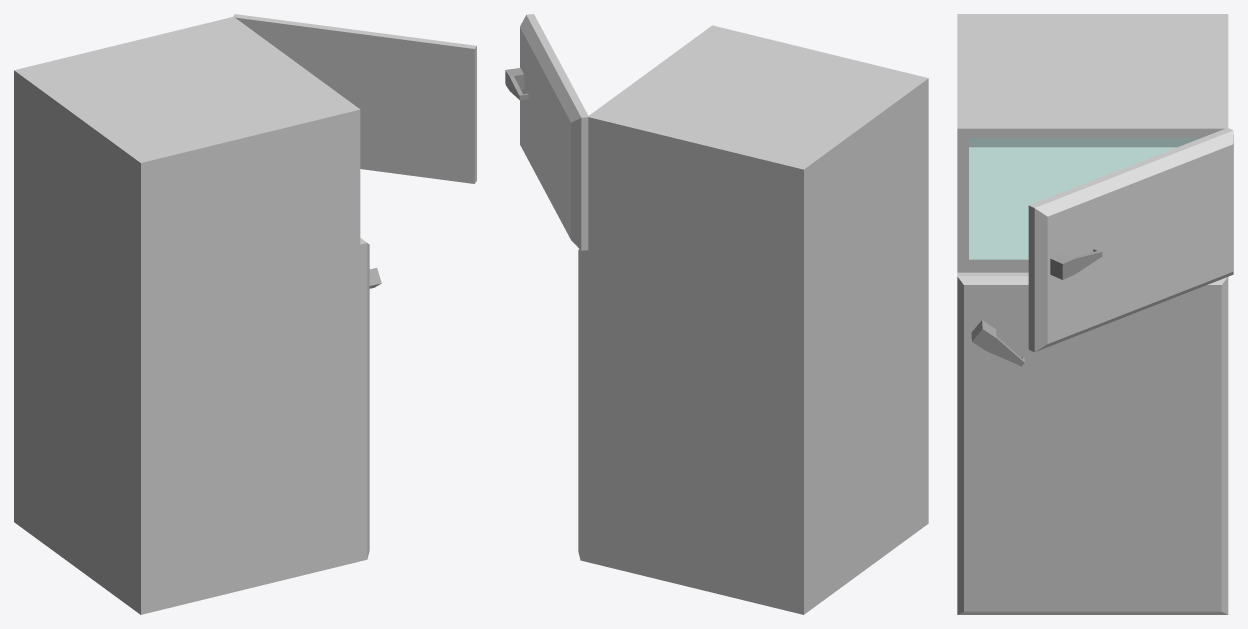
Rendered from refridgerator_broken.fbx.
3 views of the same model, side by side, from view 1: azimuth 30°, elevation 25°; view 2: azimuth 150°, elevation 25°; view 3: azimuth 270°, elevation 25° (orthographic). The views are drawn at different scales.
Parts seen in each view (by area): view 1: Cube; view 2: Cube; view 3: Cube.
Boxes of the visible parts, box(x1,y1,x2,y2) form: Cube: box(14, 14, 476, 614); Cube: box(505, 14, 928, 614); Cube: box(957, 14, 1233, 614).
Bounding box in the file's own units: 346 × 393 × 204.
